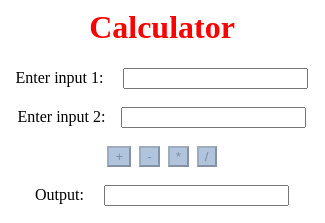
Test: Calculator test › should render the result when different operator is clicked from existing clicked operator
Type "10" into the number field labelled "Enter input 1:" at {"x": 216, "y": 78}, box [124,68,308,89]
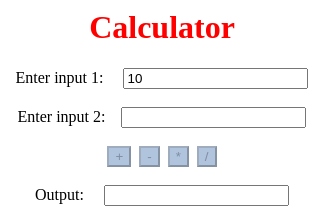
Type "2" into the number field labelled "Enter input 2:" at {"x": 214, "y": 117}, box [122,107,306,128]
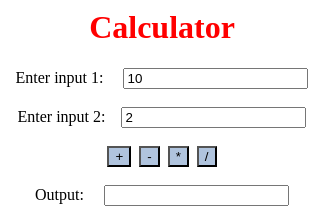
Click the button "*" at {"x": 178, "y": 156}, box [168,146,189,167]
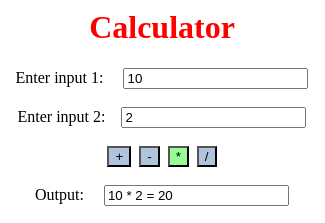
Expected: the field labelled "Output:" holds "10 * 2 = 20", [104,185,289,206]
Click the button "-" at {"x": 149, "y": 156}, box [139,146,160,167]
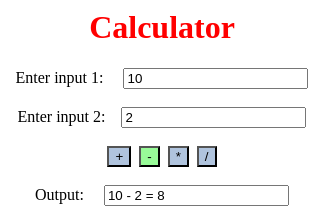
Expected: the field labelled "Output:" holds "10 - 2 = 8", [104,185,289,206]
